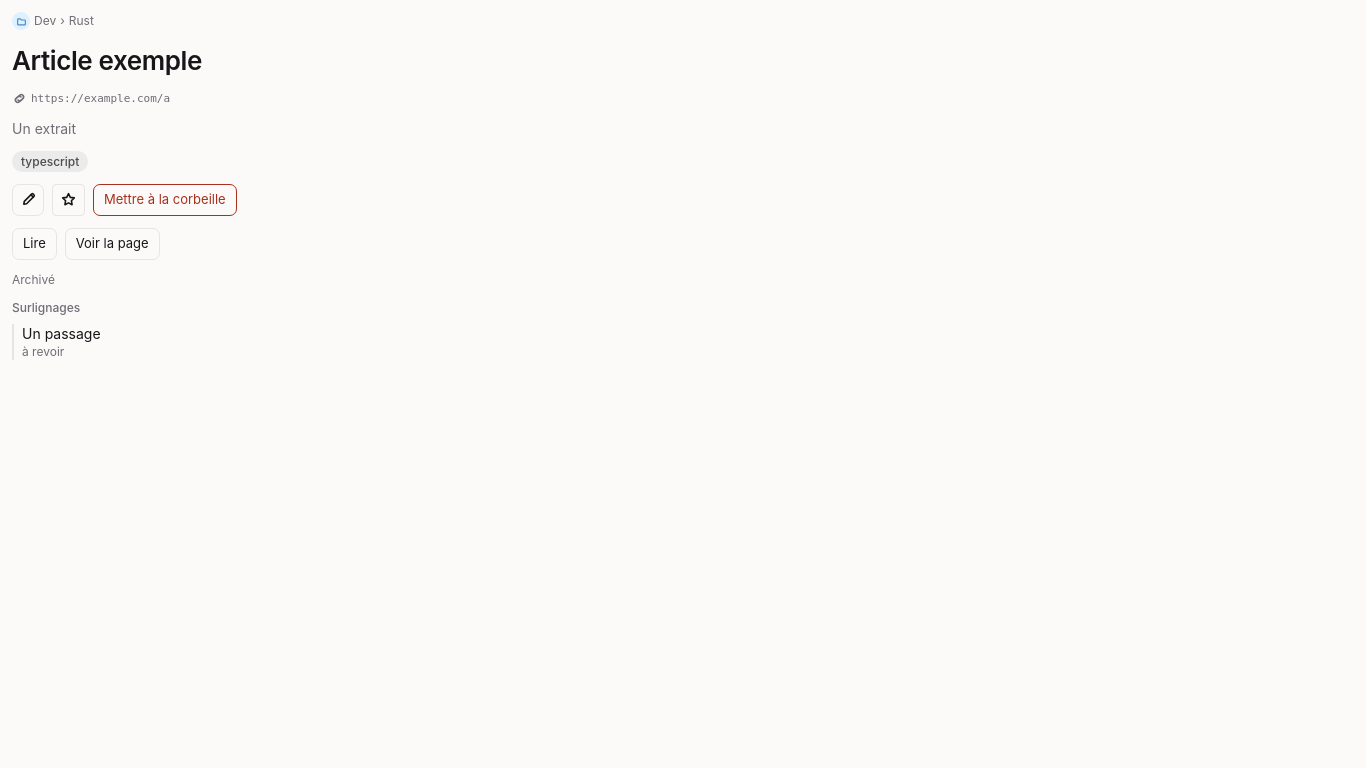
Test: DetailPane › échec d'enregistrement : édition ouverte, brouillon intact, erreur inline
The width and height of the screenshot is (1366, 768).
Click the button named "Modifier" at [28, 200], box left=12, top=184, right=44, bottom=216
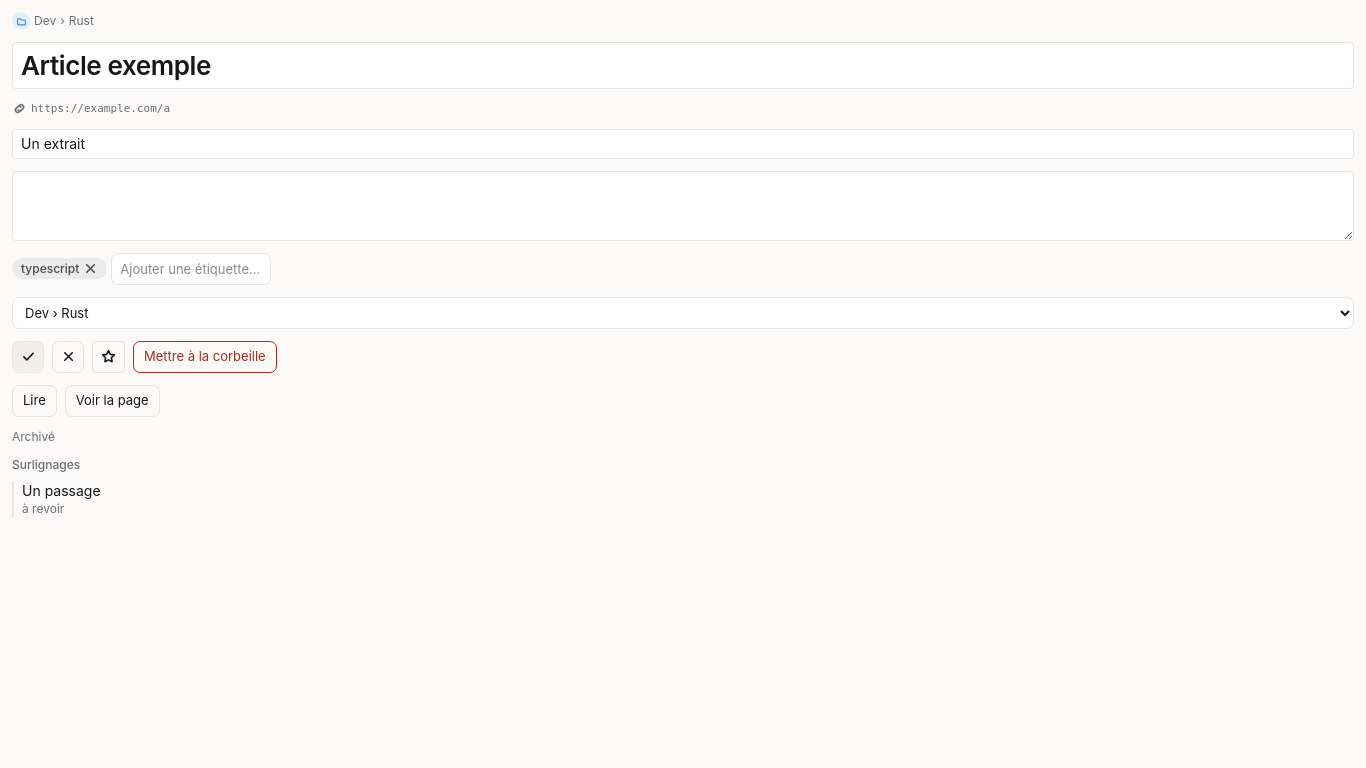
Replace the text in the field showing "Article exemple" with "Titre perdu" at [683, 66], box left=12, top=42, right=1354, bottom=89
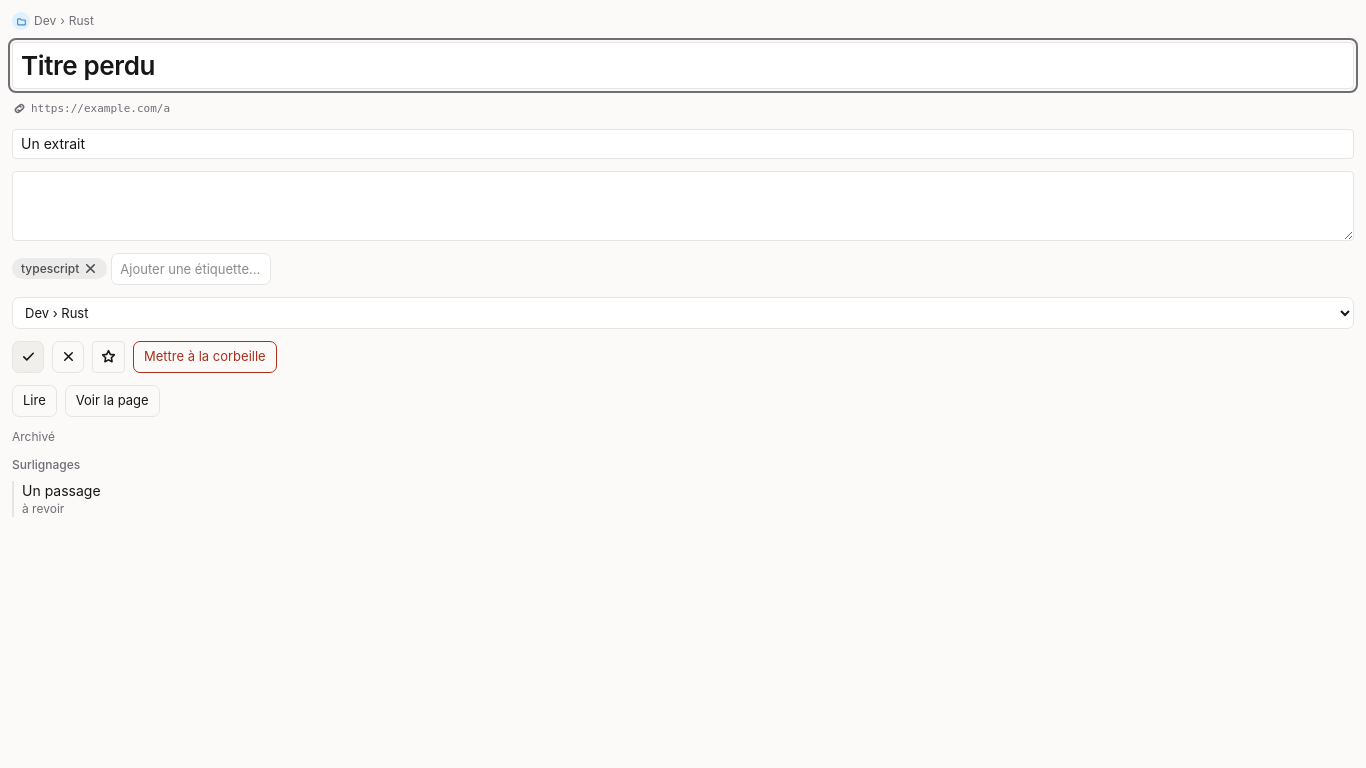
Click the button named "Enregistrer" at [28, 357], box left=12, top=341, right=44, bottom=373
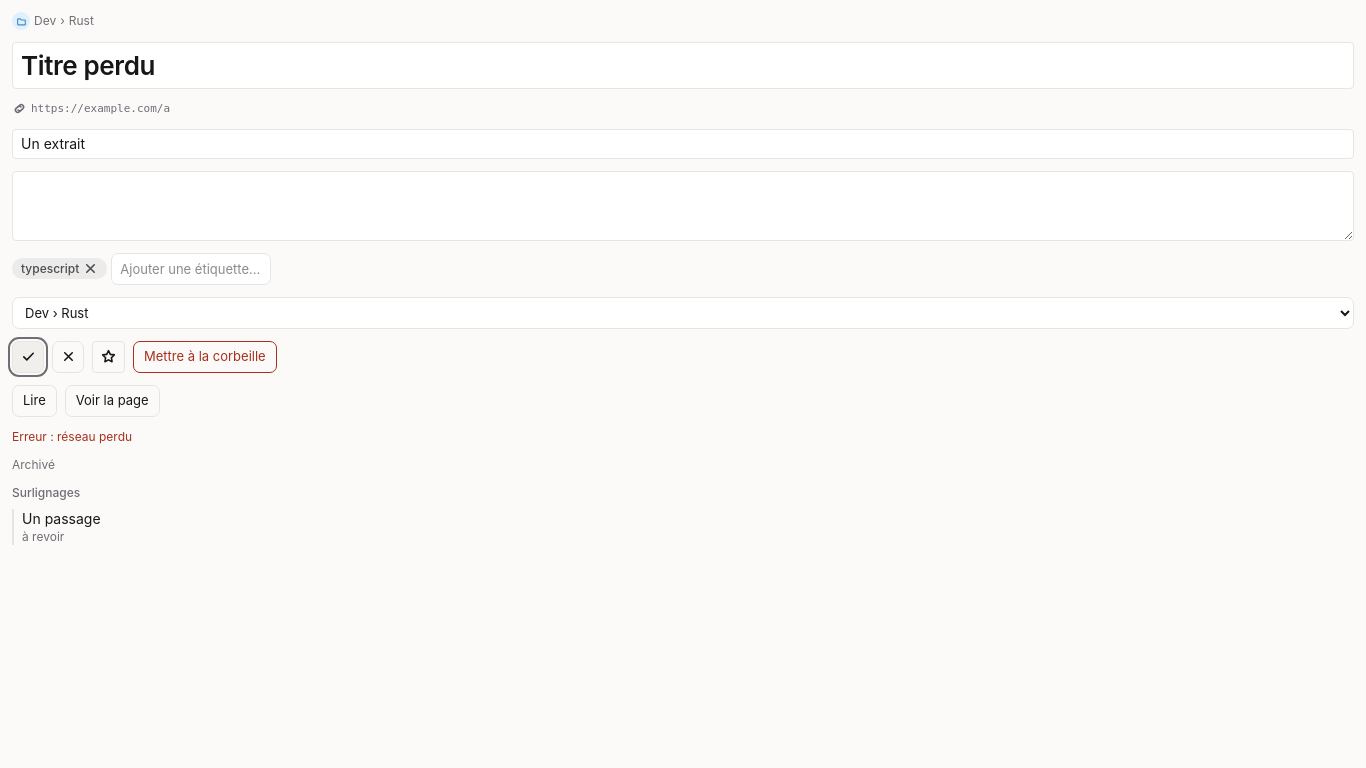
Expected: the button named "Annuler" is shown, left=52, top=341, right=84, bottom=373
Expected: the message shows "réseau perdu", left=12, top=429, right=132, bottom=444
